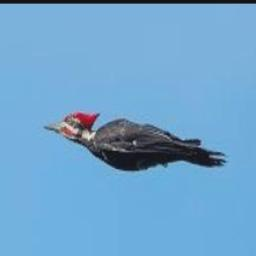Woodpecker: (45, 110, 228, 171)
